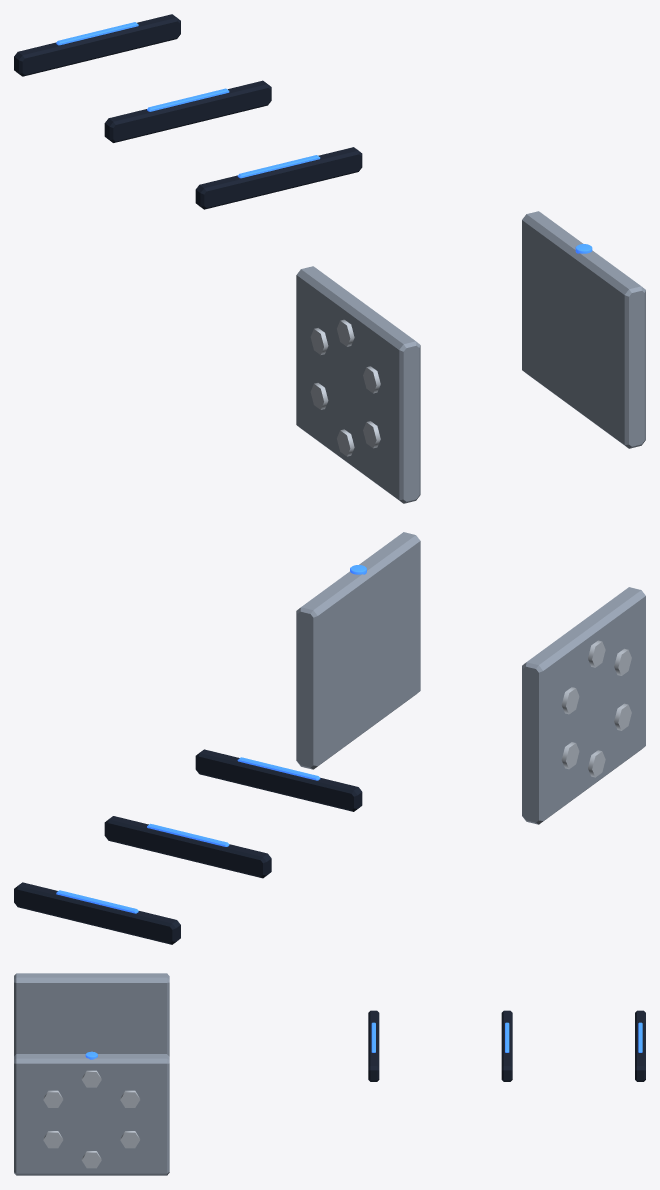
Rendered from tower_lance_damage_s3.glb.
3 renders of one model, top to bottom at view 1: azimuth 30°, elevation 25°; view 2: azimuth 150°, elevation 25°; view 3: azimuth 270°, elevation 25°, orthographic. The views are drawn at different scales.
Visible parts, largest first — view 1: lance_breech_cheek_l, lance_breech_cheek_r, lance_rail_strap-0.05, lance_rail_strap0.55, lance_rail_strap1.15, lance_cheek_bolts_l; view 2: lance_breech_cheek_l, lance_breech_cheek_r, lance_rail_strap-0.05, lance_rail_strap0.55, lance_rail_strap1.15, lance_cheek_bolts_l; view 3: lance_breech_cheek_l, lance_breech_cheek_r, lance_cheek_bolts_r, lance_rail_strap-0.05, lance_rail_strap0.55, lance_rail_strap1.15.
Part boxes in pixels (x1,y1,x2,y2): lance_breech_cheek_l: [522, 211, 645, 448]; lance_breech_cheek_r: [296, 266, 420, 503]; lance_rail_strap-0.05: [195, 147, 362, 209]; lance_rail_strap0.55: [104, 80, 271, 142]; lance_rail_strap1.15: [14, 14, 180, 76]; lance_cheek_bolts_l: [310, 319, 380, 456]; lance_breech_cheek_l: [296, 532, 420, 769]; lance_breech_cheek_r: [522, 587, 645, 824]; lance_rail_strap-0.05: [195, 749, 362, 811]; lance_rail_strap0.55: [104, 816, 271, 878]; lance_rail_strap1.15: [14, 882, 180, 944]; lance_cheek_bolts_l: [561, 640, 631, 777]; lance_breech_cheek_l: [14, 1054, 169, 1175]; lance_breech_cheek_r: [14, 973, 169, 1056]; lance_cheek_bolts_r: [43, 1070, 140, 1168]; lance_rail_strap-0.05: [368, 1010, 379, 1081]; lance_rail_strap0.55: [501, 1010, 512, 1081]; lance_rail_strap1.15: [635, 1010, 645, 1081].
Size of the model in its own units: 0.974 by 0.5926 by 2.84.
